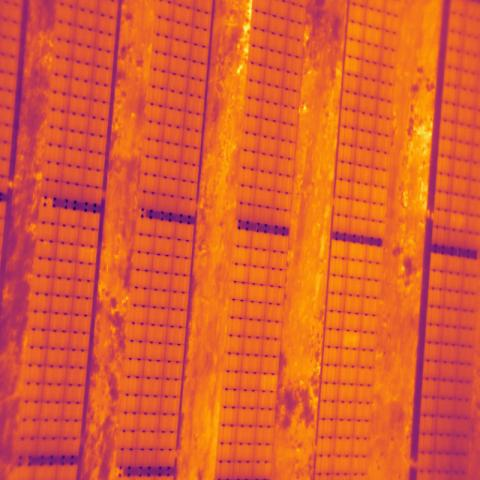fault: (343, 329, 357, 348)
